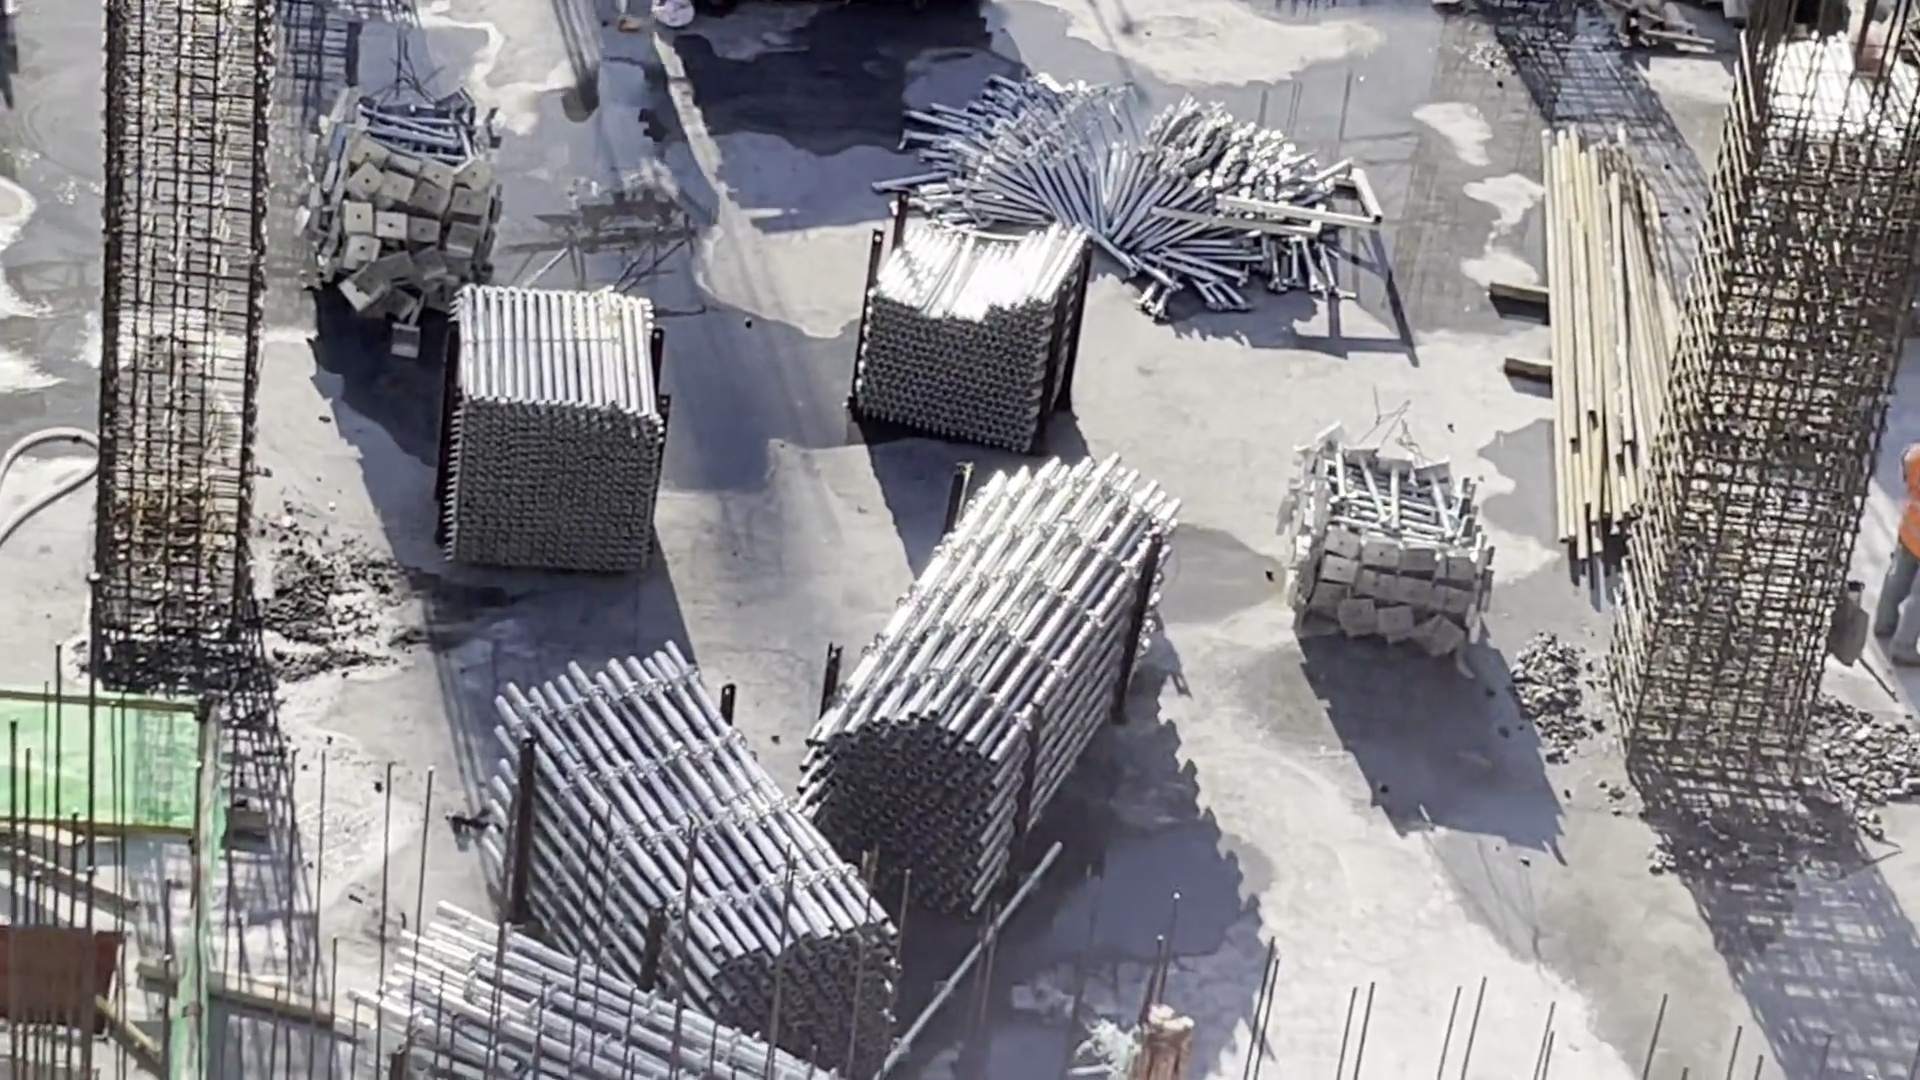person: (1866, 404, 1920, 660)
scaffold: (490, 655, 896, 1041), (833, 451, 1145, 880), (895, 64, 1328, 307), (387, 912, 822, 1080), (423, 276, 644, 564), (839, 209, 1075, 414), (296, 95, 509, 321), (1294, 440, 1468, 652)
vest: (1898, 454, 1920, 562)
